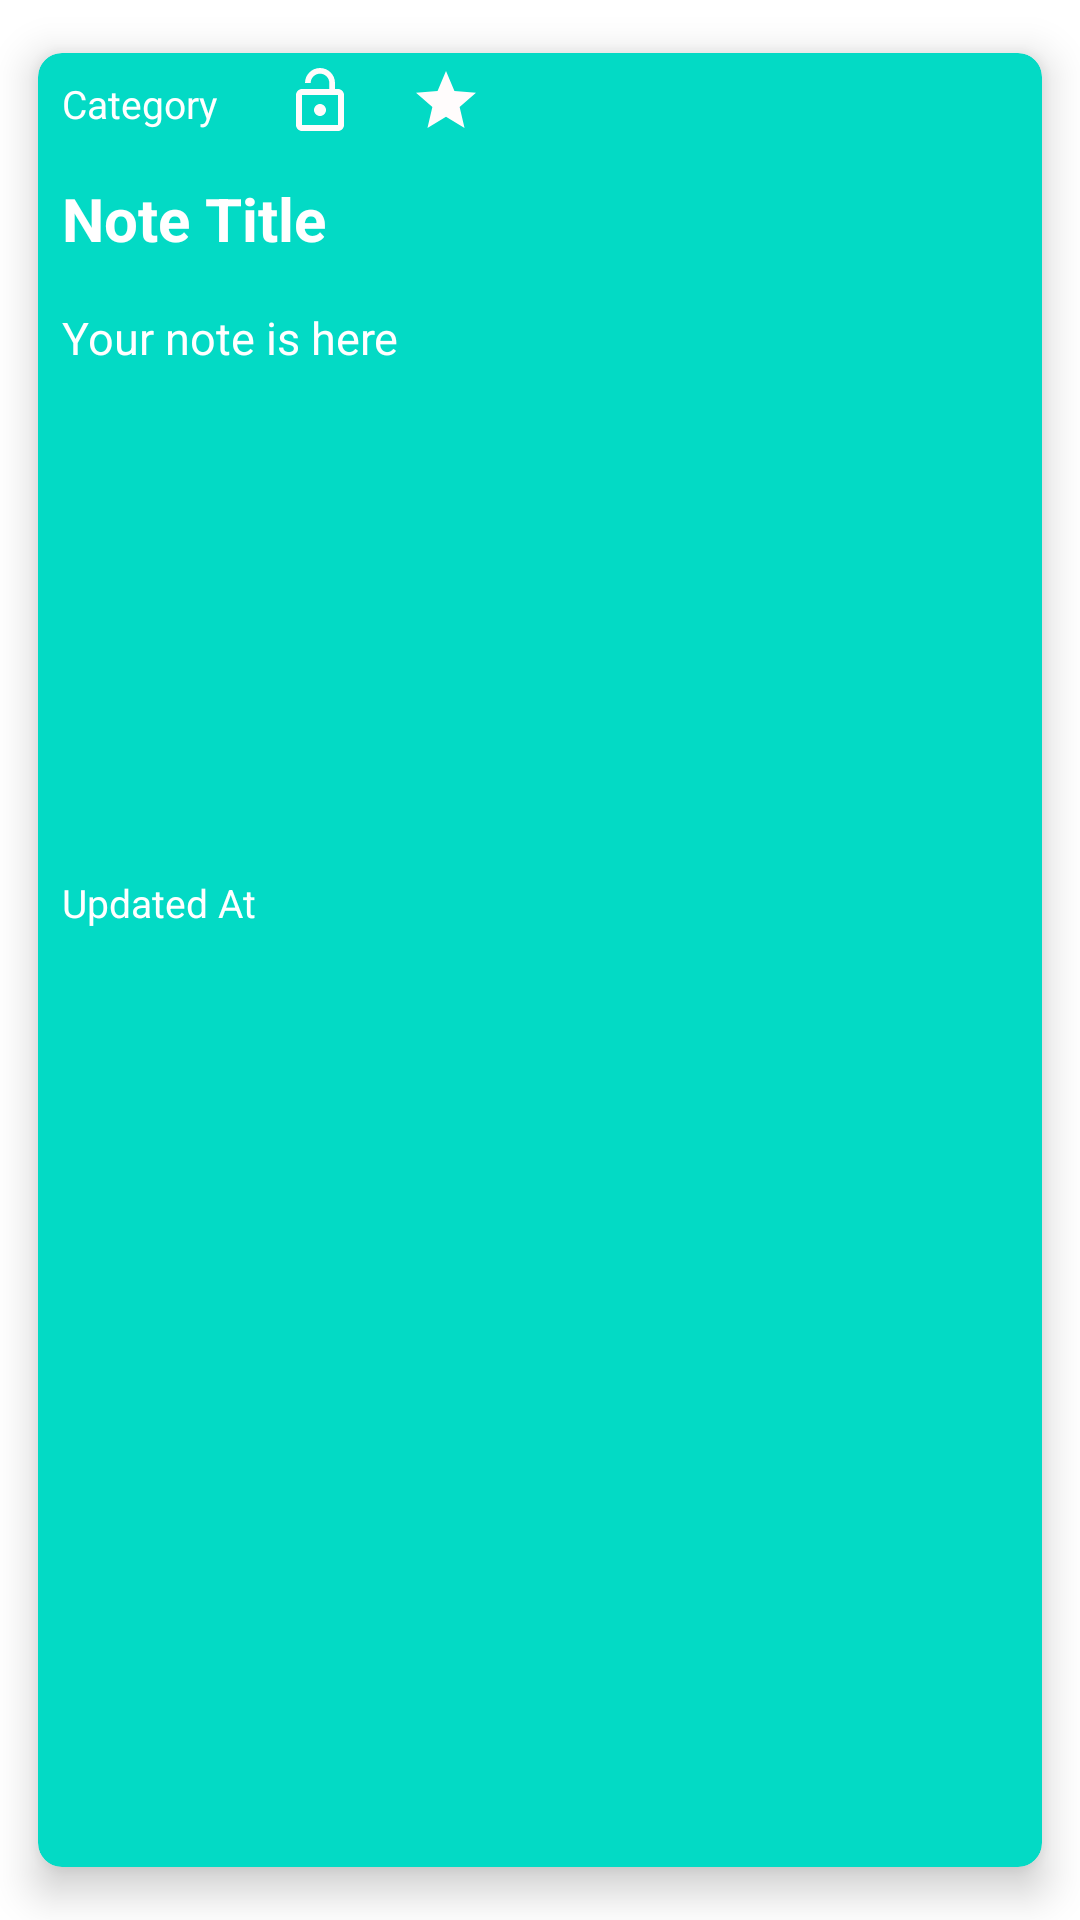

Named icons in this screenshot (1080*1920) and their centers, point (x, y):
lock open: point (320, 99)
star: point (446, 99)
